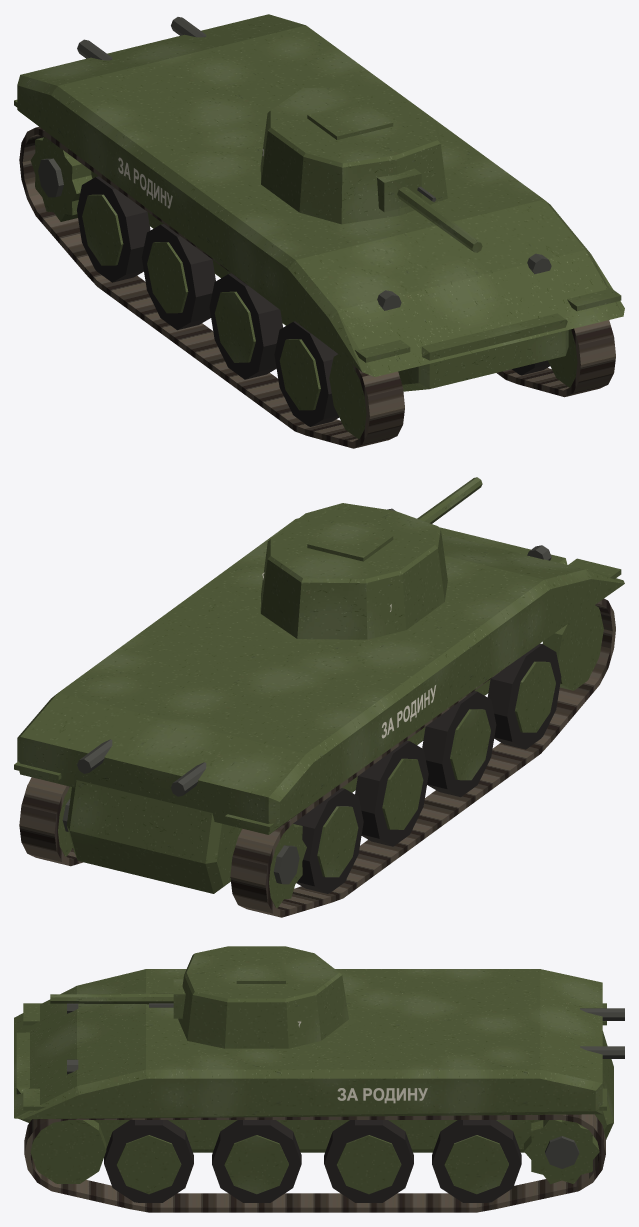
File: armor-1.glb
3 renders of one model, top to bottom at view 1: azimuth 30°, elevation 25°; view 2: azimuth 150°, elevation 25°; view 3: azimuth 270°, elevation 25°, orthographic. The views are drawn at different scales.
Visible parts, largest first — view 1: superstructure, tourelle, tracks_right, caisse, tracks_left, galet_right_3_bandage, galet_right_4_bandage, galet_right_2_bandage, galet_right_1_bandage, barbotin_right_couronne, galet_right_1_jante, galet_right_3_jante (+11 smaller); view 2: superstructure, tourelle, caisse, tracks_right, galet_right_2_bandage, galet_right_3_bandage, galet_right_1_bandage, tracks_left, roue_folle_right_jante, galet_right_4_bandage, galet_right_4_jante, galet_right_2_jante (+7 smaller); view 3: superstructure, tourelle, tracks_left, caisse, roue_folle_left_jante, galet_left_3_bandage, galet_left_2_bandage, galet_left_4_bandage, galet_left_1_bandage, barbotin_left_couronne, galet_left_1_jante, galet_left_3_jante (+11 smaller).
Boxes of the visible parts, x1=… form: superstructure: x1=17, y1=14, x2=624, y2=376; tourelle: x1=260, y1=87, x2=447, y2=224; tracks_right: x1=19, y1=127, x2=404, y2=448; caisse: x1=91, y1=171, x2=568, y2=391; tracks_left: x1=497, y1=320, x2=615, y2=397; galet_right_3_bandage: x1=141, y1=224, x2=215, y2=330; galet_right_4_bandage: x1=77, y1=176, x2=150, y2=282; galet_right_2_bandage: x1=209, y1=273, x2=282, y2=379; galet_right_1_bandage: x1=274, y1=321, x2=339, y2=426; barbotin_right_couronne: x1=30, y1=137, x2=92, y2=221; galet_right_1_jante: x1=279, y1=339, x2=320, y2=410; galet_right_3_jante: x1=147, y1=242, x2=188, y2=313; superstructure: x1=17, y1=518, x2=624, y2=834; tourelle: x1=260, y1=503, x2=447, y2=639; caisse: x1=66, y1=527, x2=567, y2=893; tracks_right: x1=230, y1=598, x2=615, y2=917; galet_right_2_bandage: x1=422, y1=691, x2=496, y2=797; galet_right_3_bandage: x1=355, y1=740, x2=428, y2=846; galet_right_1_bandage: x1=487, y1=643, x2=561, y2=749; tracks_left: x1=19, y1=777, x2=82, y2=866; roue_folle_right_jante: x1=542, y1=605, x2=603, y2=690; galet_right_4_bandage: x1=293, y1=788, x2=363, y2=893; galet_right_4_jante: x1=317, y1=806, x2=358, y2=877; galet_right_2_jante: x1=450, y1=709, x2=490, y2=780; superstructure: x1=14, y1=969, x2=602, y2=1119; tourelle: x1=178, y1=946, x2=348, y2=1048; tracks_left: x1=24, y1=1114, x2=605, y2=1212; caisse: x1=16, y1=1031, x2=613, y2=1152; roue_folle_left_jante: x1=30, y1=1120, x2=106, y2=1183; galet_left_3_bandage: x1=324, y1=1120, x2=413, y2=1202; galet_left_2_bandage: x1=212, y1=1120, x2=301, y2=1202; galet_left_4_bandage: x1=432, y1=1120, x2=521, y2=1202; galet_left_1_bandage: x1=104, y1=1120, x2=193, y2=1202; barbotin_left_couronne: x1=524, y1=1120, x2=599, y2=1184; galet_left_1_jante: x1=116, y1=1135, x2=181, y2=1194; galet_left_3_jante: x1=336, y1=1135, x2=401, y2=1194.
Bounding box in the file's own units: 1.12 × 0.95 × 2.72.
Materials: 7 (5 with a texture image).
